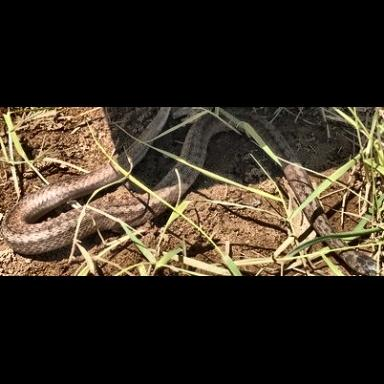snake: (0, 107, 380, 282)
